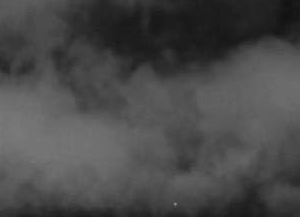Target: (174, 203, 176, 205)
